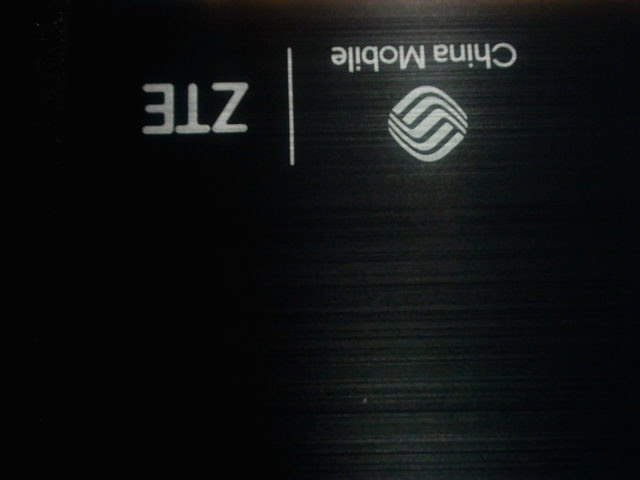AL_ZTEChinaMobile: (120, 29, 535, 174)
